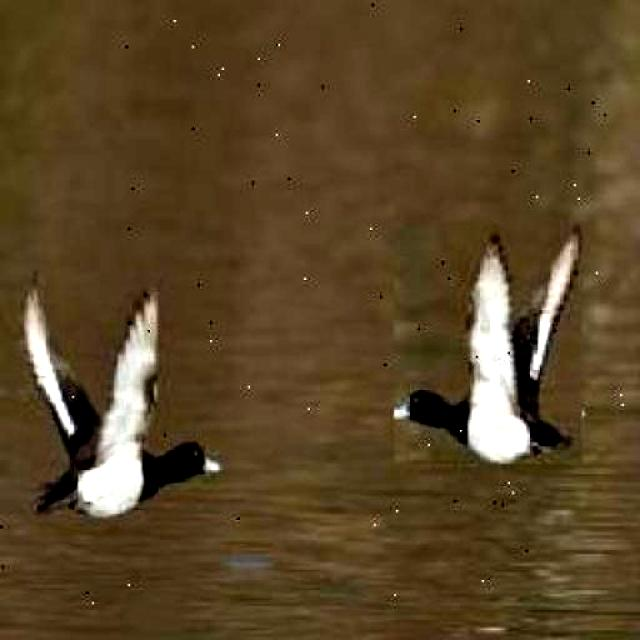airplane: (20, 274, 220, 518), (394, 222, 582, 464)
